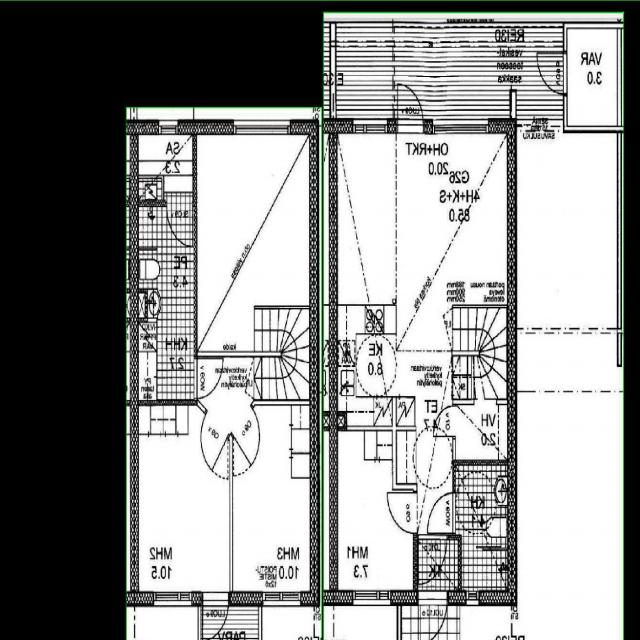door: (232, 404, 270, 466), (190, 410, 228, 471), (419, 590, 448, 640), (419, 534, 447, 584), (536, 52, 568, 94), (398, 80, 423, 133), (203, 591, 229, 640), (166, 199, 192, 247), (388, 492, 418, 533), (427, 493, 456, 532), (194, 358, 222, 397), (433, 406, 456, 436)
